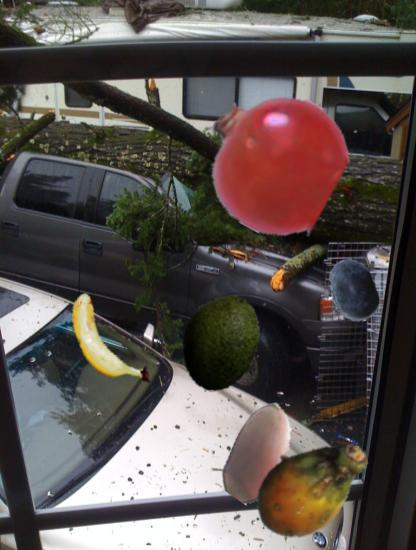Avocado: (171, 292, 271, 392)
Banana: (54, 287, 162, 395)
Blueberry: (320, 258, 386, 324)
Cactus: (253, 428, 375, 550)
Hazelnut: (208, 400, 313, 505)
Redcurrant: (203, 91, 344, 232)
